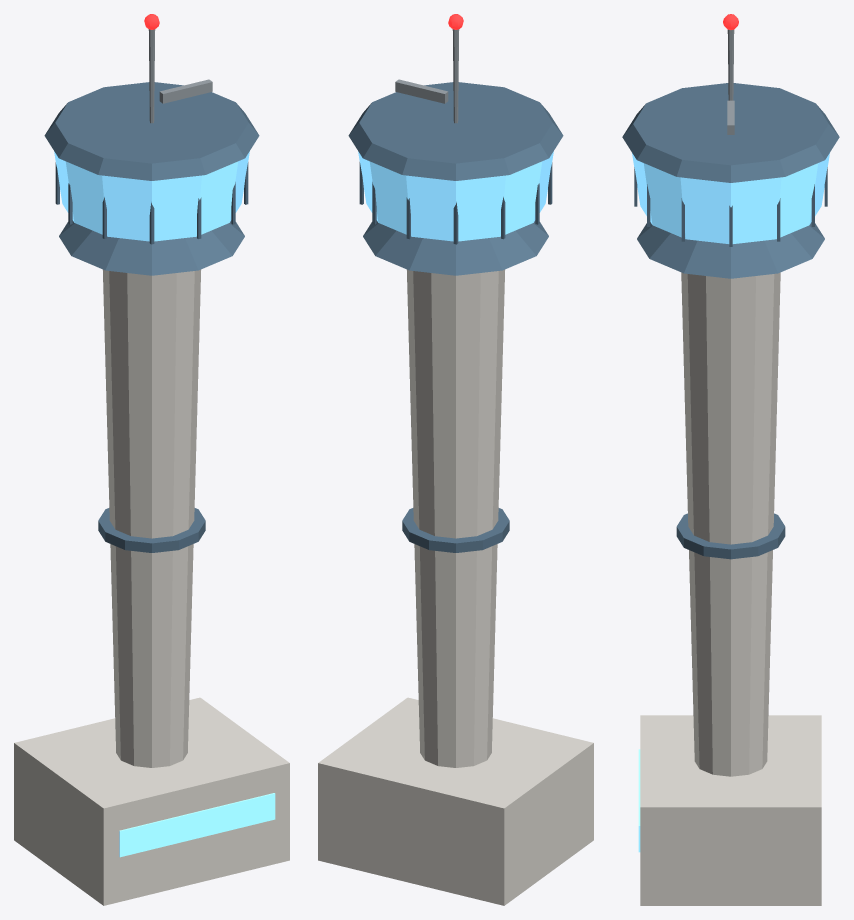
The model's file is airport_tower.glb.
3 views of the same model, side by side, from view 1: azimuth 30°, elevation 25°; view 2: azimuth 150°, elevation 25°; view 3: azimuth 270°, elevation 25° (orthographic).
Parts seen in each view (by area): view 1: AirportTower_body; view 2: AirportTower_body; view 3: AirportTower_body.
Part boxes in pixels (x1,y1,x2,y2): AirportTower_body: (14,14,289,905); AirportTower_body: (318,14,593,905); AirportTower_body: (622,14,839,905).
Size of the model in its own units: 12 by 51.45 by 12.
